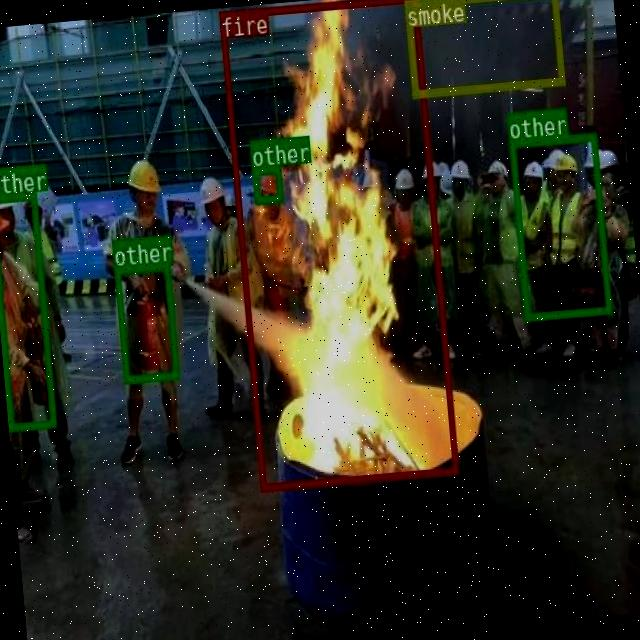fire: (217, 0, 456, 489)
smoke: (403, 0, 564, 95)
